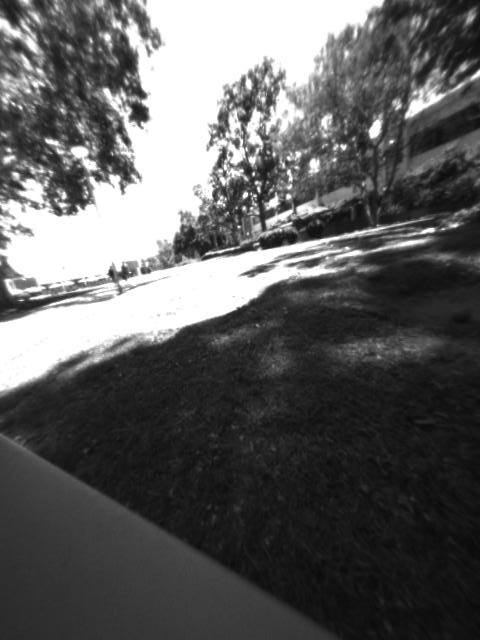dogtoy: (445, 300, 474, 330)
